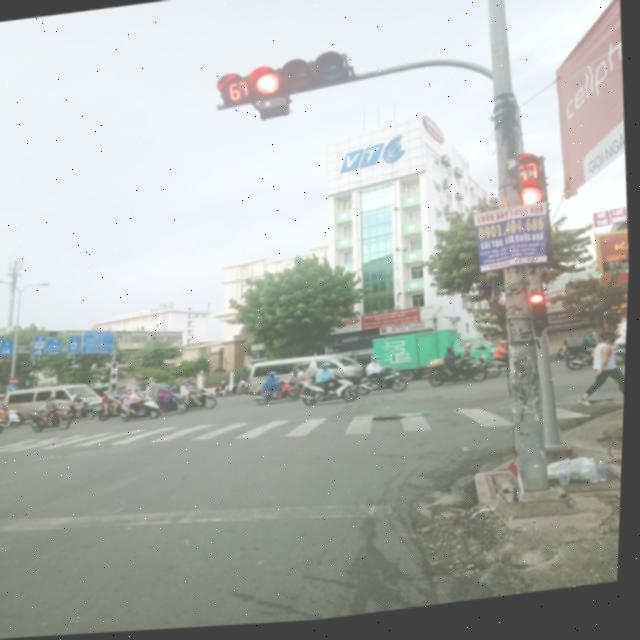Red: (242, 51, 363, 105), (528, 291, 559, 341)
